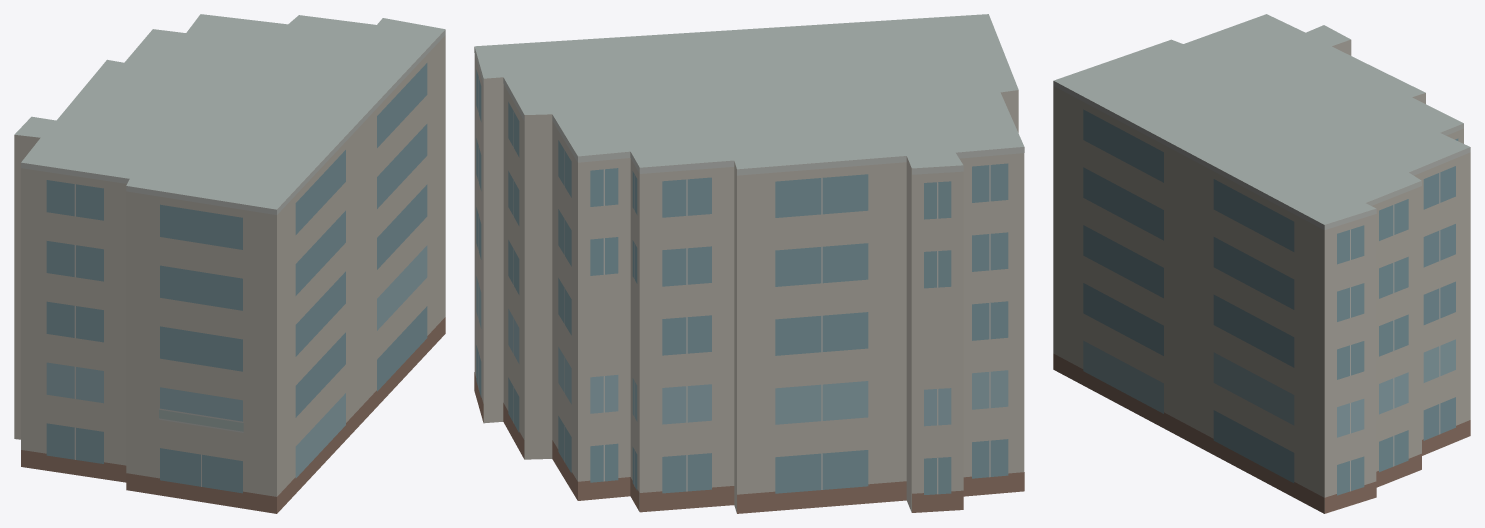
File: survey-upis-32657771.glb
3 renders of one model, left to right at view 1: azimuth 30°, elevation 25°; view 2: azimuth 150°, elevation 25°; view 3: azimuth 270°, elevation 25°, orthographic. The views are drawn at different scales.
Visible parts, largest first — view 1: survey-upis-32657771.tmp; view 2: survey-upis-32657771.tmp; view 3: survey-upis-32657771.tmp.
Boxes of the visible parts, x1,y1,x2,y2 form: survey-upis-32657771.tmp: (14, 14, 445, 513); survey-upis-32657771.tmp: (474, 14, 1024, 513); survey-upis-32657771.tmp: (1053, 14, 1470, 513).
Bounding box in the file's own units: 20.83 × 13.3 × 17.4.
